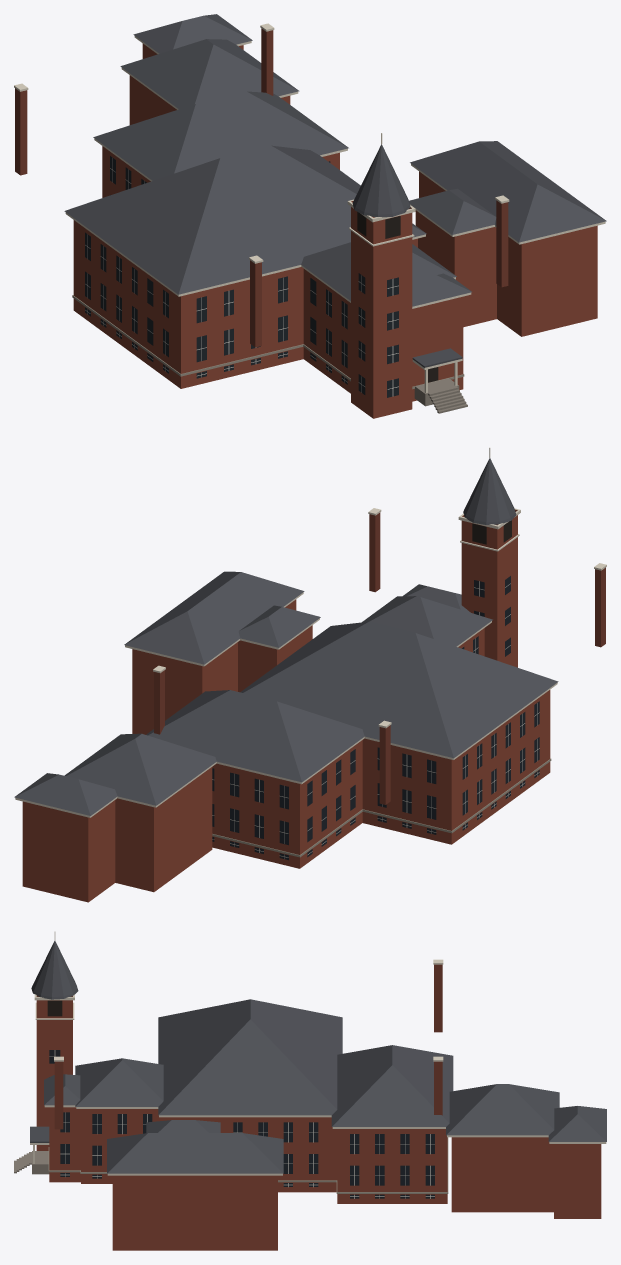
File: arkansas-school-for-the-blind-1913.glb
3 renders of one model, top to bottom at view 1: azimuth 30°, elevation 25°; view 2: azimuth 150°, elevation 25°; view 3: azimuth 270°, elevation 25°, orthographic. The views are drawn at different scales.
Parts seen in each view (by area): view 1: arkansas_slate, arkansas_brick, arkansas_glass, arkansas_brick2, arkansas_trim, arkansas_base, arkansas_sash, arkansas_stone, arkansas_dark; view 2: arkansas_slate, arkansas_brick, arkansas_glass, arkansas_brick2, arkansas_trim, arkansas_stone, arkansas_sash; view 3: arkansas_slate, arkansas_brick, arkansas_glass, arkansas_trim, arkansas_brick2, arkansas_stone, arkansas_sash, arkansas_base.
Boxes of the visible parts, x1,y1,x2,y2 form: arkansas_slate: [64, 14, 606, 367]; arkansas_brick: [73, 43, 597, 418]; arkansas_glass: [85, 156, 398, 397]; arkansas_brick2: [15, 28, 508, 347]; arkansas_trim: [14, 23, 605, 392]; arkansas_base: [414, 378, 467, 413]; arkansas_sash: [85, 158, 398, 396]; arkansas_stone: [72, 295, 464, 389]; arkansas_dark: [357, 212, 438, 382]; arkansas_slate: [14, 458, 558, 815]; arkansas_brick: [22, 509, 550, 902]; arkansas_glass: [212, 576, 539, 860]; arkansas_brick2: [154, 512, 605, 804]; arkansas_trim: [15, 447, 606, 817]; arkansas_stone: [212, 758, 551, 857]; arkansas_sash: [212, 581, 539, 858]; arkansas_slate: [30, 941, 606, 1173]; arkansas_brick: [36, 996, 601, 1250]; arkansas_glass: [49, 1050, 434, 1198]; arkansas_trim: [30, 931, 606, 1175]; arkansas_brick2: [54, 964, 442, 1129]; arkansas_stone: [48, 1137, 448, 1193]; arkansas_sash: [49, 1050, 434, 1198]; arkansas_base: [14, 1151, 49, 1174].
Size of the model in its own units: 46.9 by 30.8 by 75.19.
